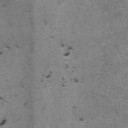oxide scale of temperature system: (40, 43, 78, 87), (0, 42, 20, 56), (26, 114, 35, 128), (0, 118, 6, 126), (78, 117, 84, 122), (2, 2, 7, 6), (23, 102, 28, 106), (0, 94, 3, 100), (72, 105, 76, 109), (50, 35, 54, 38)
